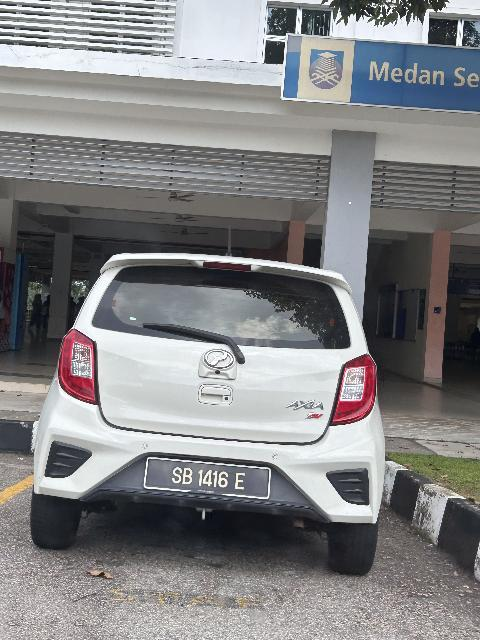License_Plate: (143, 455, 275, 505)
SB1416E: (143, 455, 275, 505)
car: (20, 240, 394, 587)
